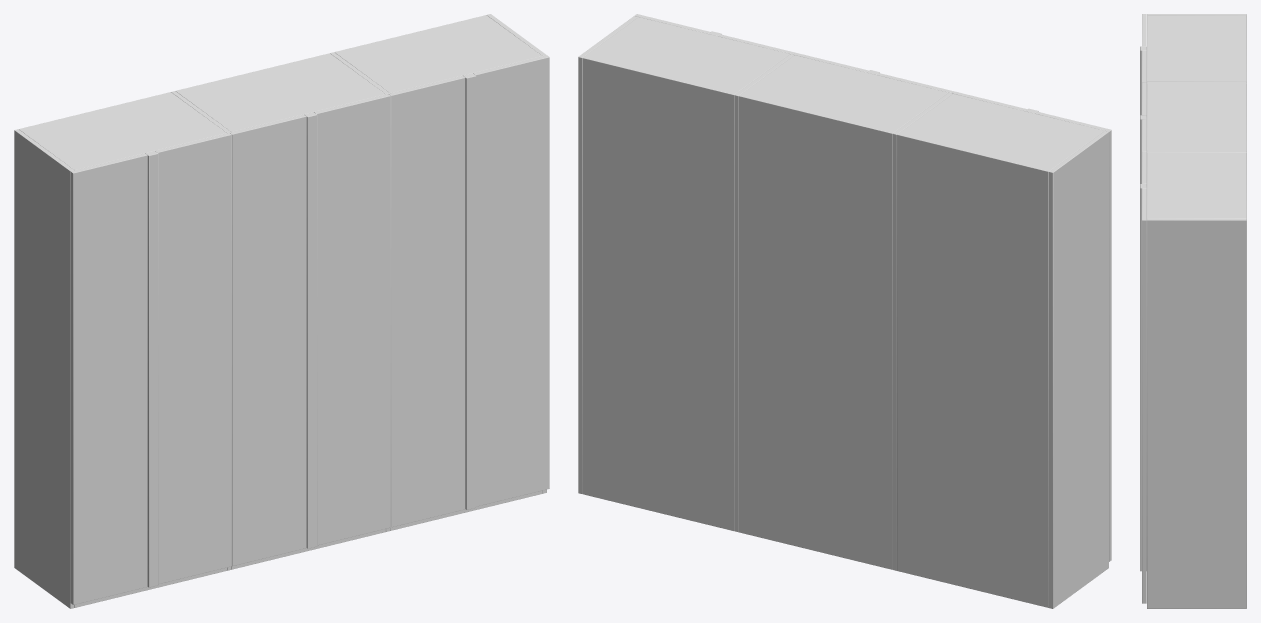
The model's file is cabinet_B07H8SM6Q4.glb.
3 renders of one model, left to right at view 1: azimuth 30°, elevation 25°; view 2: azimuth 150°, elevation 25°; view 3: azimuth 270°, elevation 25°, orthographic. The views are drawn at different scales.
Visible parts, largest first — view 1: B07H8SM6Q4; view 2: B07H8SM6Q4; view 3: B07H8SM6Q4.
Part boxes in pixels (<box>): B07H8SM6Q4: <box>14,14,549,608</box>; B07H8SM6Q4: <box>578,14,1111,608</box>; B07H8SM6Q4: <box>1140,14,1246,608</box>.
Bounding box in the file's own units: 2.7 × 2.37 × 0.5898.
Materials: 1 (1 with a texture image).
